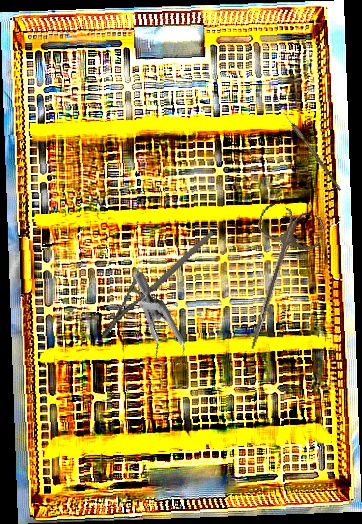Iris Scissors: (224, 201, 327, 359)
Needle Holder: (81, 230, 235, 339)
Speculum: (87, 269, 226, 405)
Surgical Spoon: (272, 100, 344, 191)
